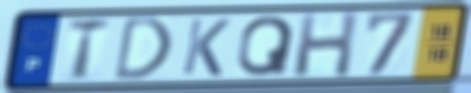7: (363, 10, 418, 78)
D: (110, 14, 175, 84)
H: (291, 9, 361, 79)
K: (179, 16, 234, 78)
Q: (234, 14, 298, 78)
T: (65, 16, 114, 83)
